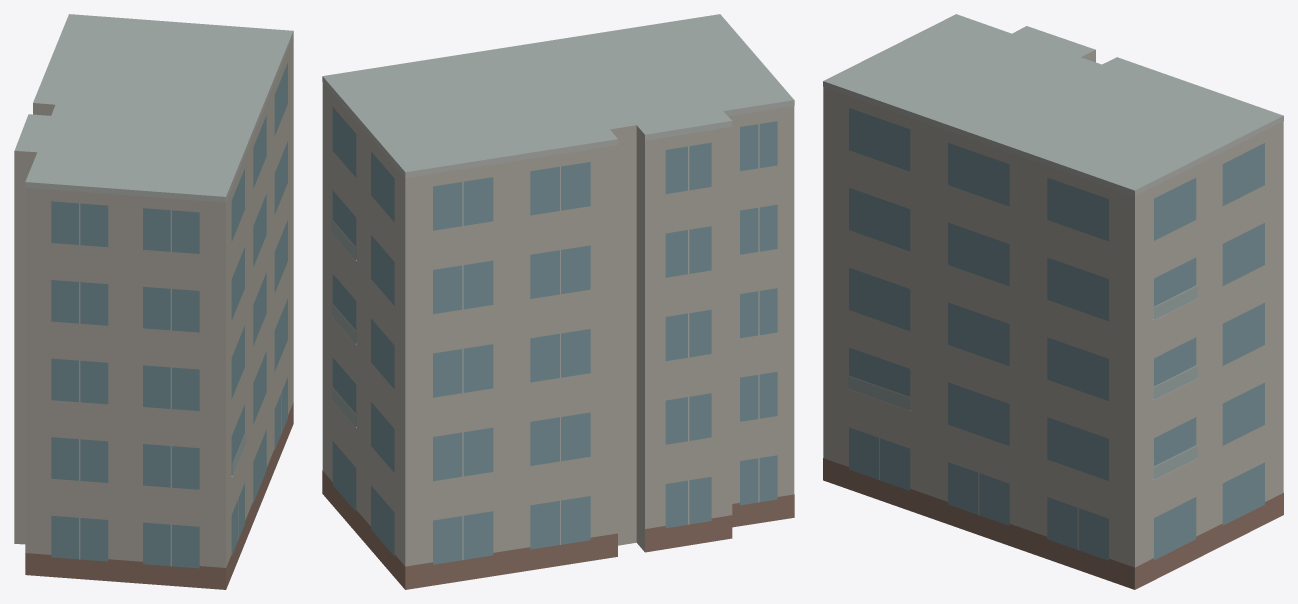
File: survey-upis-33019561.glb
The picture shows the model from 3 angles, left to right: view 1: azimuth 30°, elevation 25°; view 2: azimuth 150°, elevation 25°; view 3: azimuth 270°, elevation 25°; orthographic projection. The views are drawn at different scales.
Visible parts, largest first — view 1: survey-upis-33019561.tmp; view 2: survey-upis-33019561.tmp; view 3: survey-upis-33019561.tmp.
Part boxes in pixels (x1,y1,x2,y2): survey-upis-33019561.tmp: [14, 14, 293, 589]; survey-upis-33019561.tmp: [322, 14, 794, 589]; survey-upis-33019561.tmp: [823, 14, 1283, 589].
Bounding box in the file's own units: 16.18 × 17.05 × 17.83.
